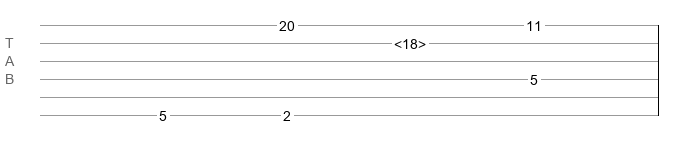11: (526, 18, 542, 28)
2: (283, 108, 291, 118)
20: (279, 18, 295, 28)
5: (159, 108, 167, 118), (530, 72, 538, 82)
harmonic: (394, 36, 426, 46)
